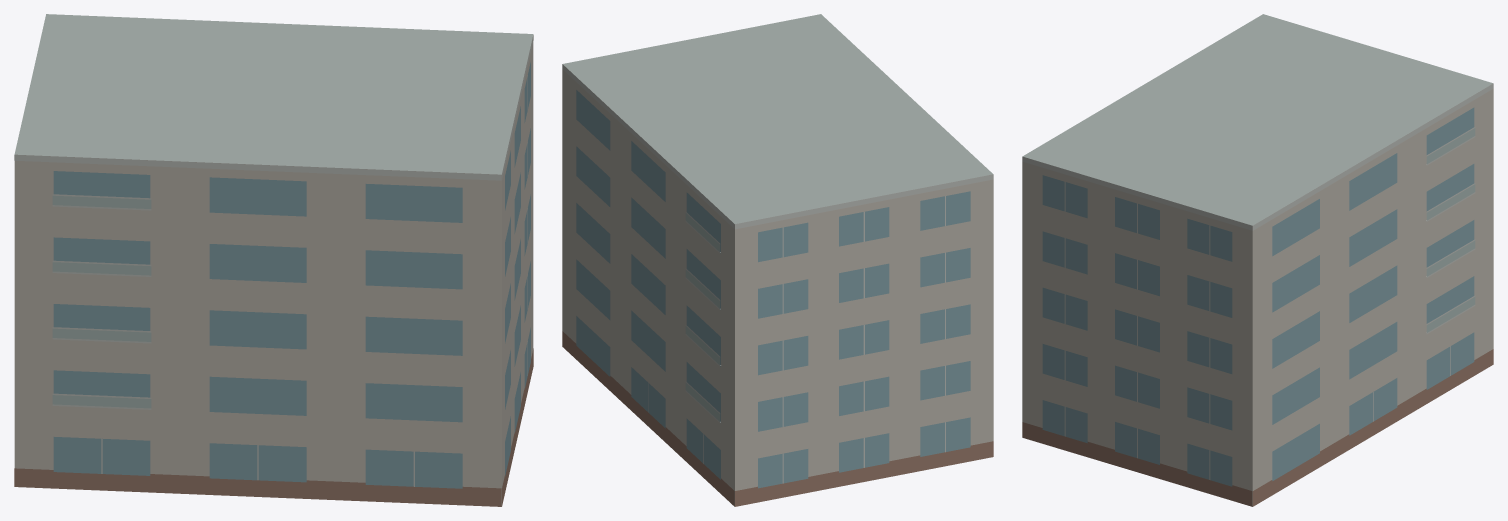
Rendered from survey-upis-32832151.glb.
3 views of the same model, side by side, from view 1: azimuth 30°, elevation 25°; view 2: azimuth 150°, elevation 25°; view 3: azimuth 270°, elevation 25° (orthographic). The views are drawn at different scales.
Visible parts, largest first — view 1: survey-upis-32832151.tmp; view 2: survey-upis-32832151.tmp; view 3: survey-upis-32832151.tmp.
Boxes of the visible parts, box(x1,y1,x2,y2) form: survey-upis-32832151.tmp: box(14, 14, 533, 506); survey-upis-32832151.tmp: box(562, 14, 993, 506); survey-upis-32832151.tmp: box(1022, 14, 1493, 506).
Bounding box in the file's own units: 21.49 × 13.3 × 20.22.
